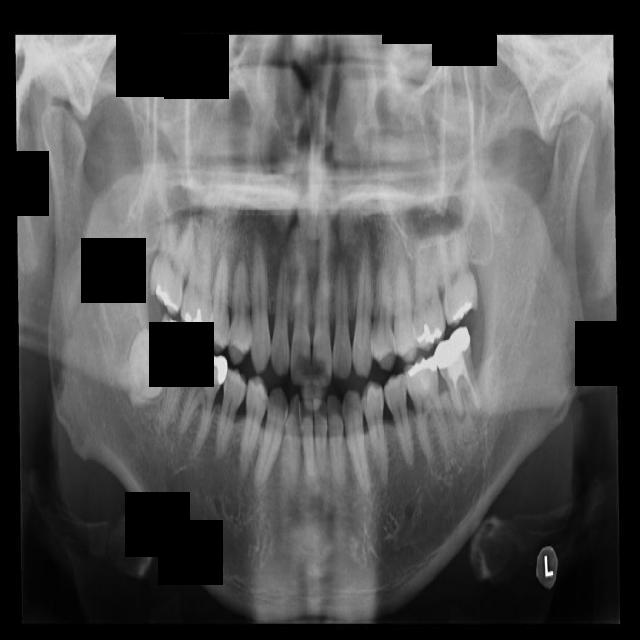52: (132, 252, 199, 320), (423, 320, 484, 382), (145, 311, 208, 371), (430, 270, 492, 330), (178, 338, 236, 393), (394, 348, 452, 403), (412, 298, 447, 352), (180, 284, 213, 341)
73: (442, 355, 485, 420), (591, 556, 597, 582)
BioHorizons Implant: (435, 224, 481, 329)
Blue Sky Bio Implant: (429, 325, 485, 421)
Caries: (146, 187, 200, 318)
Implant: (139, 312, 201, 433)
Keystone Dental Implant: (103, 325, 187, 412)
